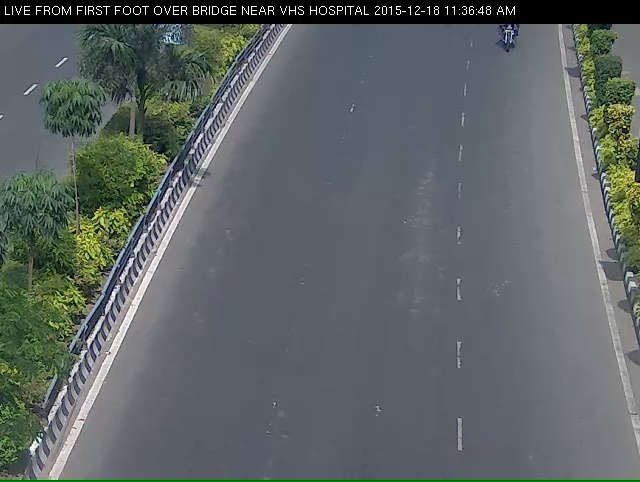Person: (489, 26, 527, 56)
